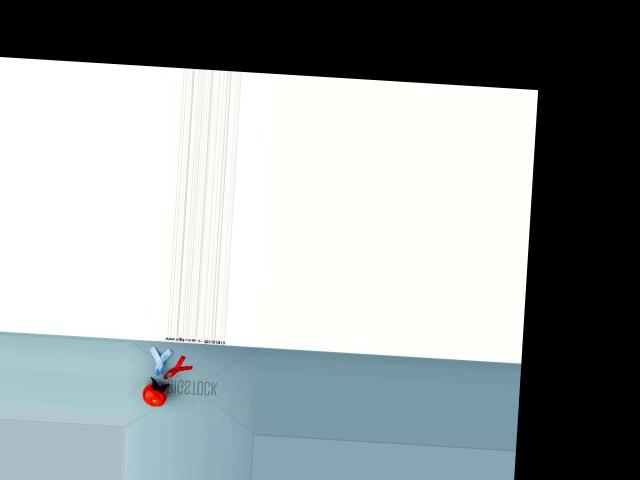tomato: (142, 382, 168, 407)
